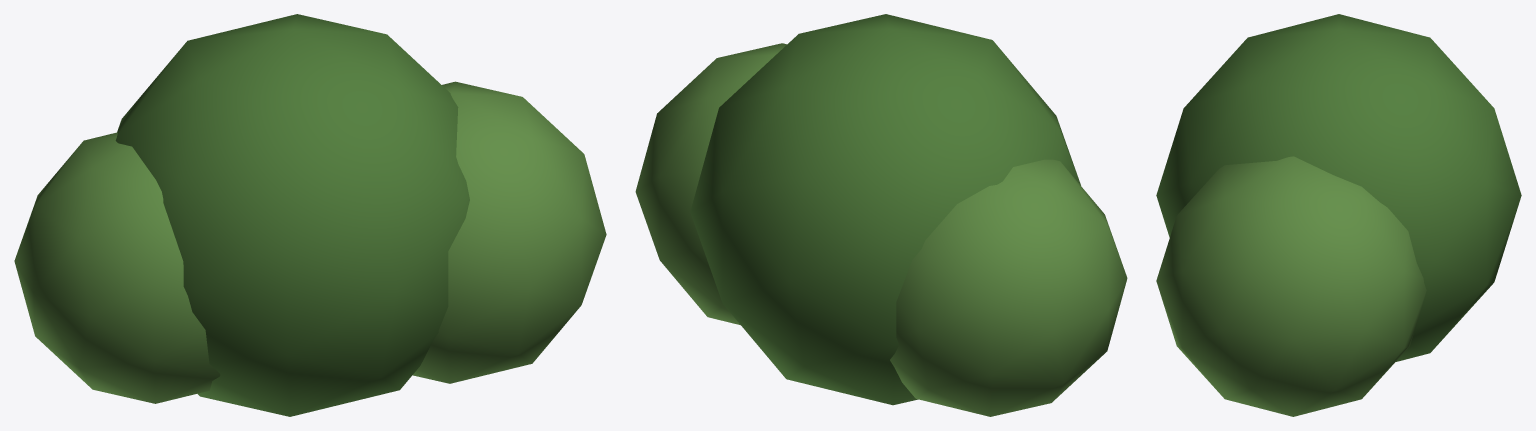
File: bush.obj
The picture shows the model from 3 angles, left to right: view 1: azimuth 30°, elevation 25°; view 2: azimuth 150°, elevation 25°; view 3: azimuth 270°, elevation 25°; orthographic projection. The views are drawn at different scales.
Visible parts, largest first — view 1: bush_0, bush_2, bush_1; view 2: bush_0, bush_2, bush_1; view 3: bush_0, bush_1.
Part boxes in pixels (bbox=[...]): bush_0: bbox=[115, 14, 469, 416]; bush_2: bbox=[14, 132, 220, 403]; bush_1: bbox=[413, 81, 606, 383]; bush_0: bbox=[690, 14, 1080, 405]; bush_2: bbox=[890, 159, 1127, 416]; bush_1: bbox=[635, 43, 786, 324]; bush_0: bbox=[1156, 14, 1521, 361]; bush_1: bbox=[1156, 156, 1426, 416].
Bounding box in the file's own units: 1.72 × 1.2 × 1.2.
